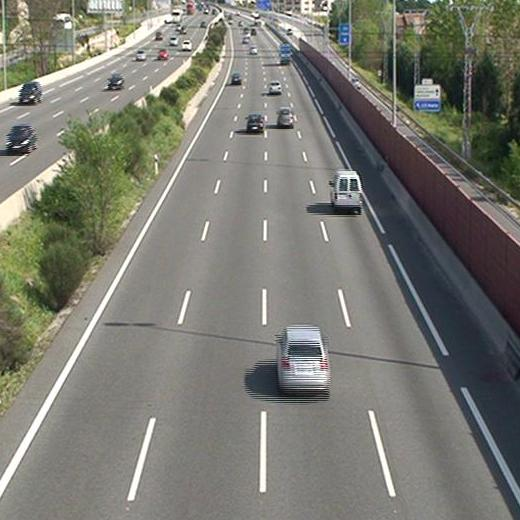car: (276, 325, 331, 392), (277, 106, 293, 127), (246, 113, 263, 132), (231, 71, 242, 84), (269, 81, 282, 92), (249, 45, 258, 54)
small-truck: (279, 42, 292, 62)
van: (329, 172, 362, 209)
